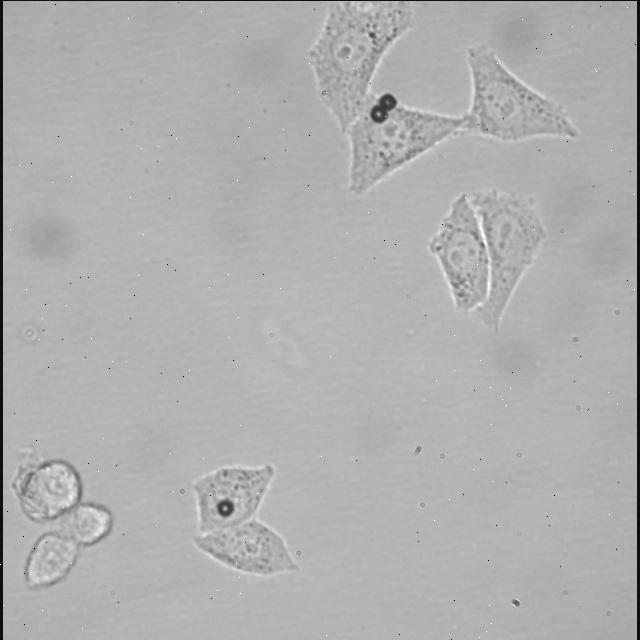microbeads: (214, 494, 236, 516), (378, 90, 402, 110), (370, 100, 390, 122)
